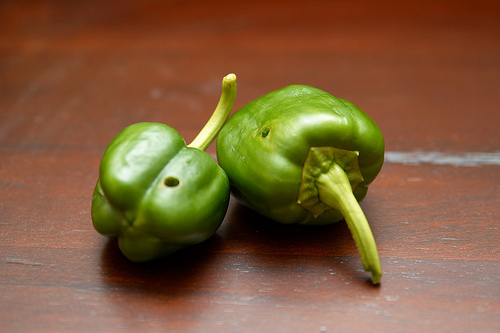capsicum: (216, 83, 388, 286), (88, 69, 239, 265)
